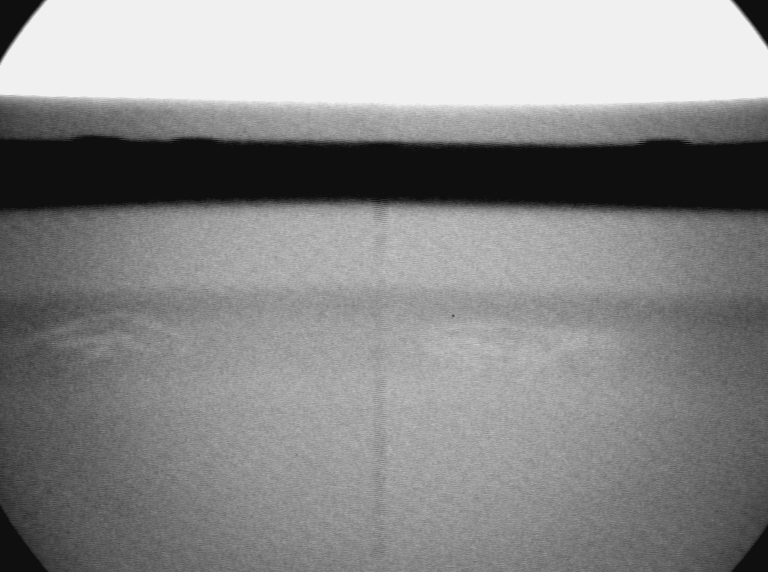defect: (407, 309, 631, 394)
